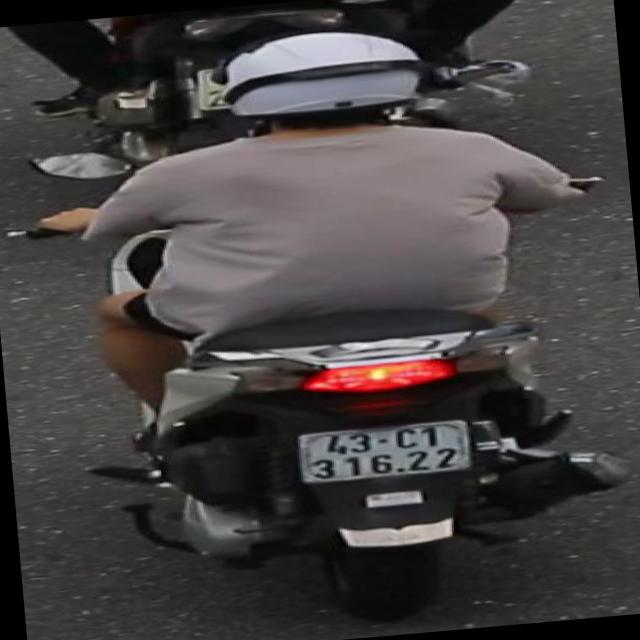LP: (290, 412, 486, 491)
helmet: (198, 22, 446, 158)
